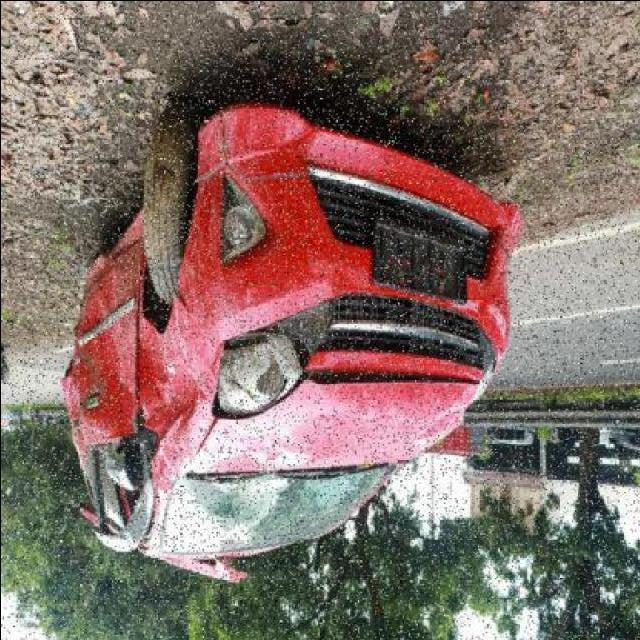doorouter-dent: (78, 251, 137, 437)
fender-dent: (140, 304, 218, 474)
